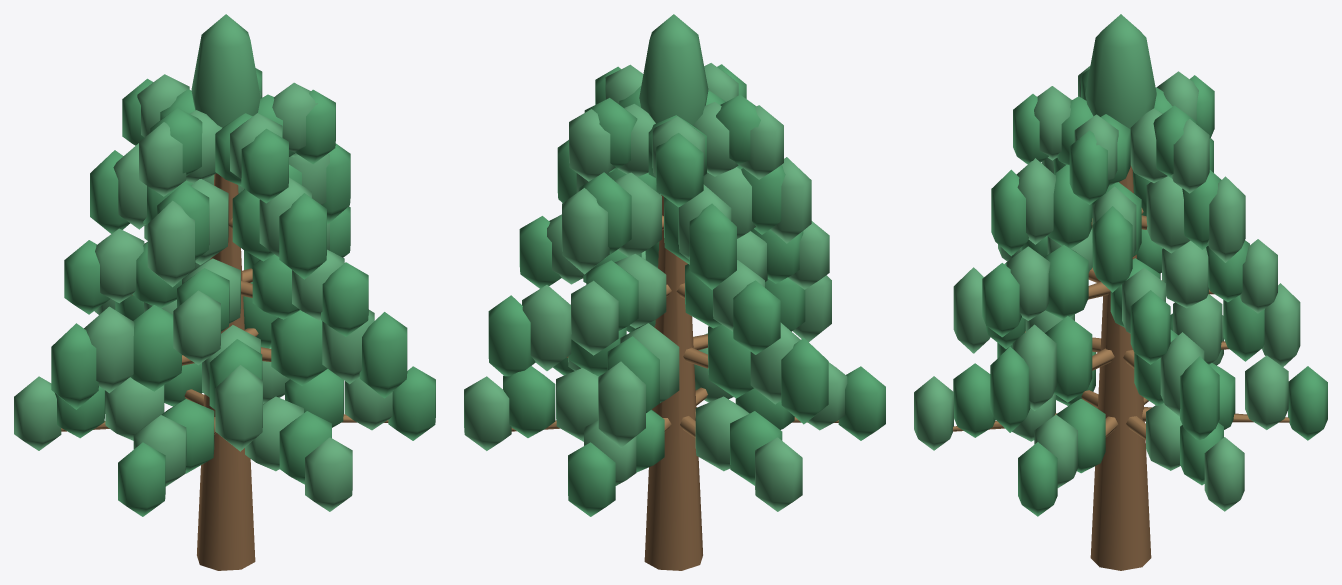
Rendered from tree_conifer_02.glb.
The picture shows the model from 3 angles, left to right: view 1: azimuth 30°, elevation 25°; view 2: azimuth 150°, elevation 25°; view 3: azimuth 270°, elevation 25°; orthographic projection.
Size of the model in its own units: 0.6999 by 1.09 by 0.7511.
